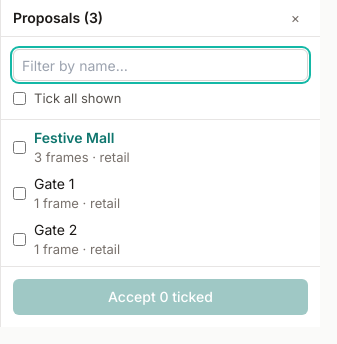
Test: ProposalDrawer › ticks everything the filter shows, and only that
The image size is (337, 344).
Type "gate" into the search field named "Filter proposals" at (160,65), box [13,49,308,81]
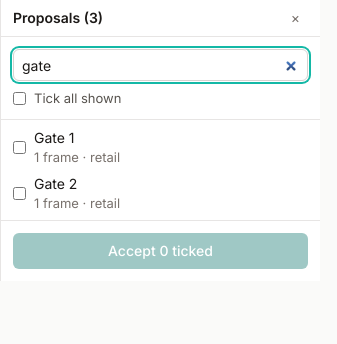
Click the checkbox labelled "Tick all shown" at (20,98), box [13,92,26,104]
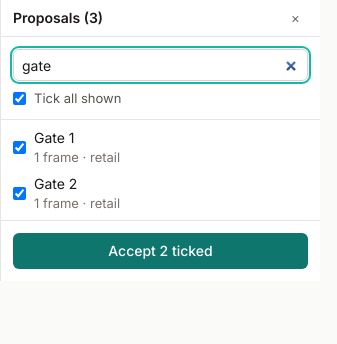
Clear the search field named "Filter proposals" at (160,65), box [13,49,308,81]
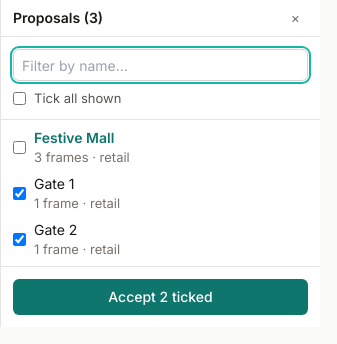
Expected: the checkbox named "Tick Gate 1" is checked, [13,186,26,200]
Expected: the button "Accept 2 ticked" is shown, [13,279,308,315]
Expected: the checkbox named "Tick Festive Mall" is not checked, [13,140,26,154]
